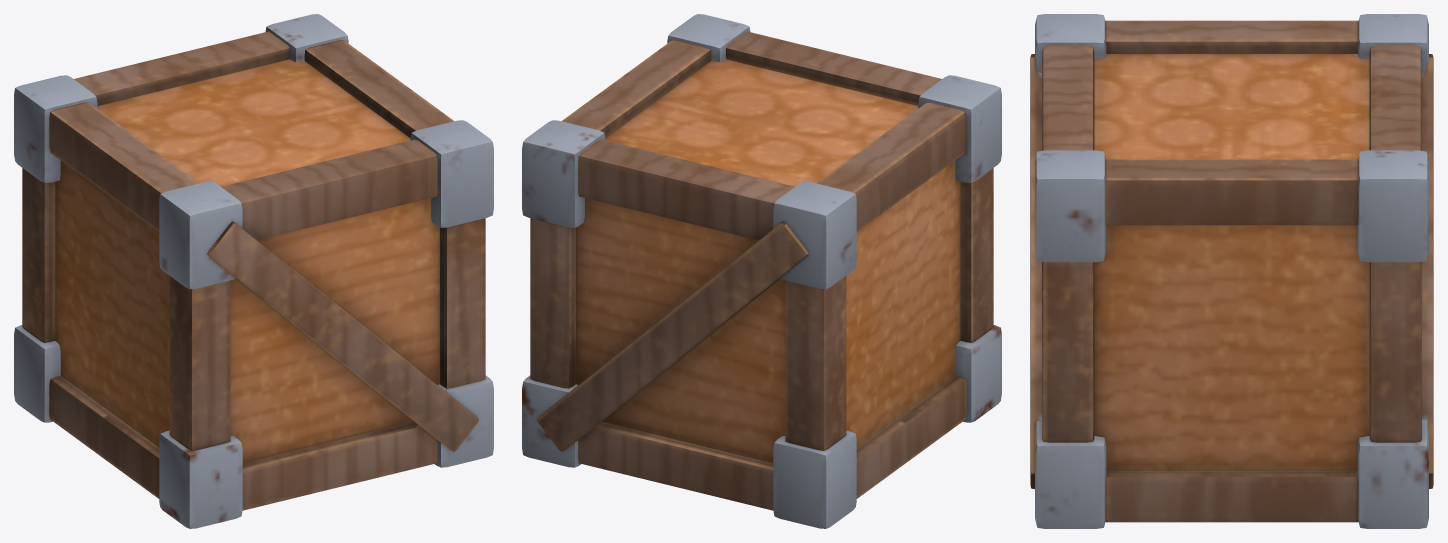
Rendered from Caisse.fbx.
3 views of the same model, side by side, from view 1: azimuth 30°, elevation 25°; view 2: azimuth 150°, elevation 25°; view 3: azimuth 270°, elevation 25° (orthographic). The views are drawn at different scales.
Parts seen in each view (by area): view 1: Caisse; view 2: Caisse; view 3: Caisse.
Boxes of the visible parts, x1,y1,x2,y2 form: Caisse: (14, 14, 493, 528); Caisse: (522, 14, 1001, 528); Caisse: (1030, 14, 1433, 528).
Size of the model in its own units: 415 by 410 by 425.
1 material, 1 textured.
